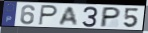3: (81, 5, 99, 28)
5: (123, 7, 140, 30)
6: (20, 4, 37, 25)
A: (58, 6, 79, 26)
P: (37, 4, 59, 27), (99, 7, 123, 28)
